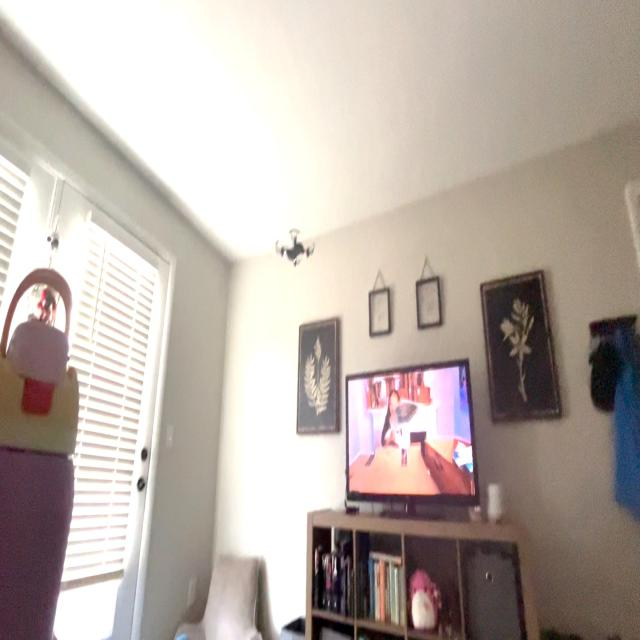drone: (268, 218, 319, 280)
